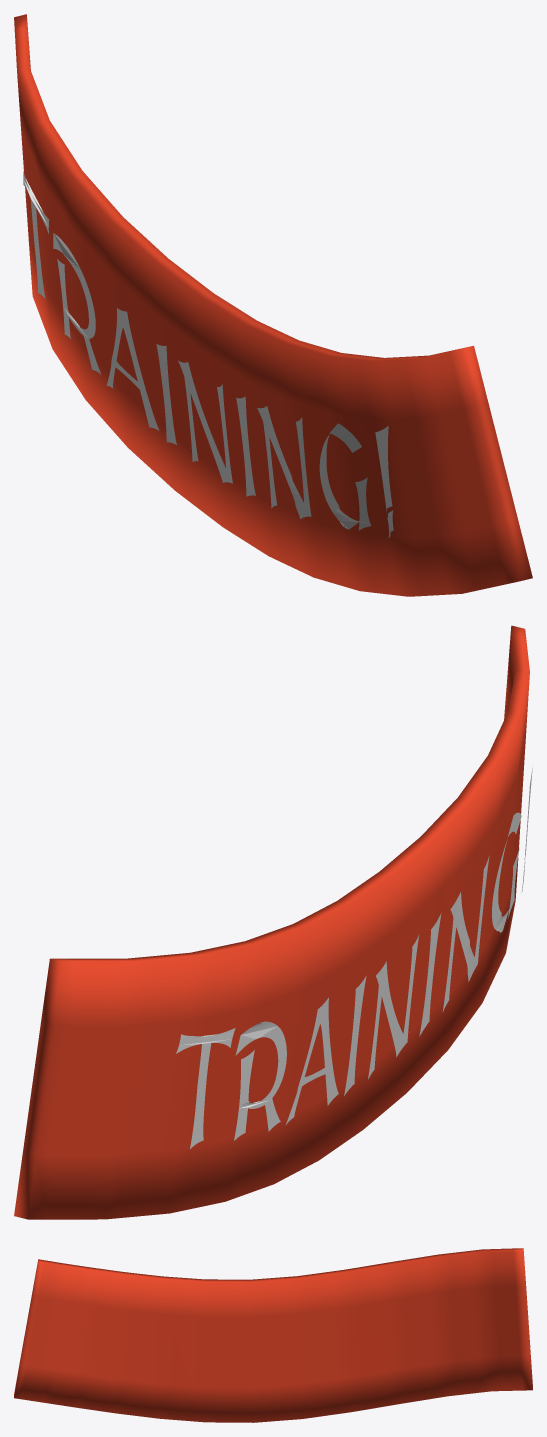
File: TRAINING_SIGN_UPDATED.fbx
The picture shows the model from 3 angles, top to bottom: view 1: azimuth 30°, elevation 25°; view 2: azimuth 150°, elevation 25°; view 3: azimuth 270°, elevation 25°; orthographic projection. The views are drawn at different scales.
Visible parts, largest first — view 1: BézierCurve, Text; view 2: BézierCurve, Text; view 3: BézierCurve.
Boxes of the visible parts, <box> form: BézierCurve: <box>14,14,532,596</box>; Text: <box>23,170,393,537</box>; BézierCurve: <box>14,625,529,1219</box>; Text: <box>176,765,532,1148</box>; BézierCurve: <box>14,1248,532,1422</box>.
Bounding box in the file's own units: 37.44 × 91.69 × 239.
